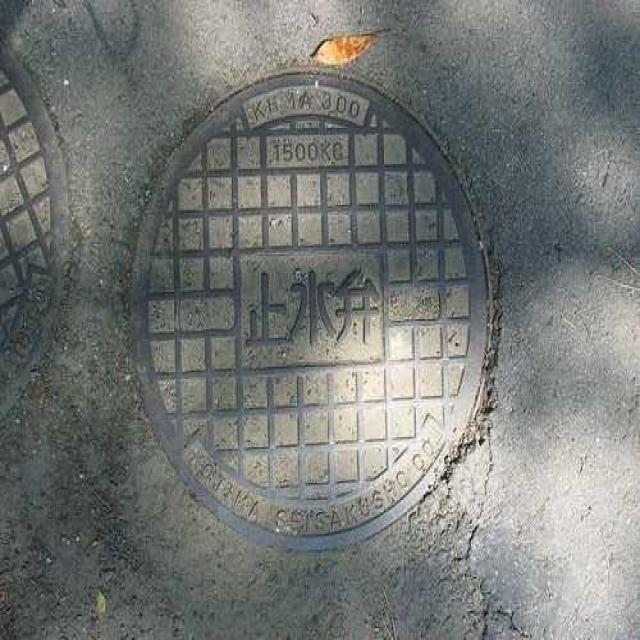manhole: (136, 75, 489, 548)
